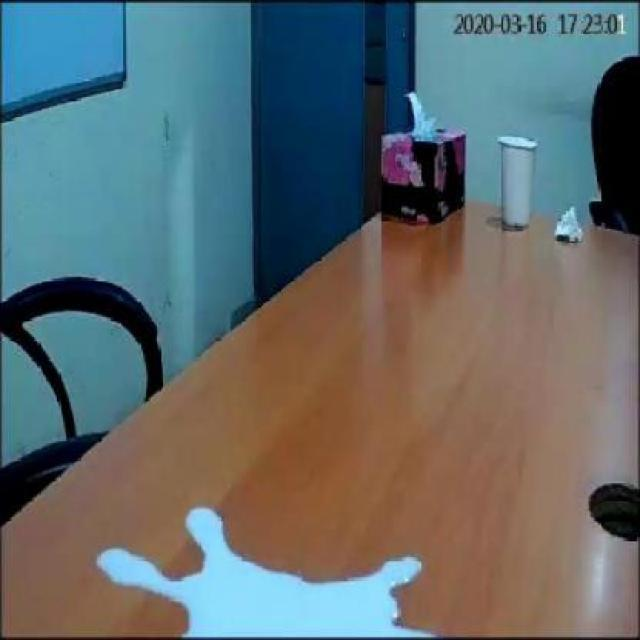spillage: (86, 508, 439, 640)
